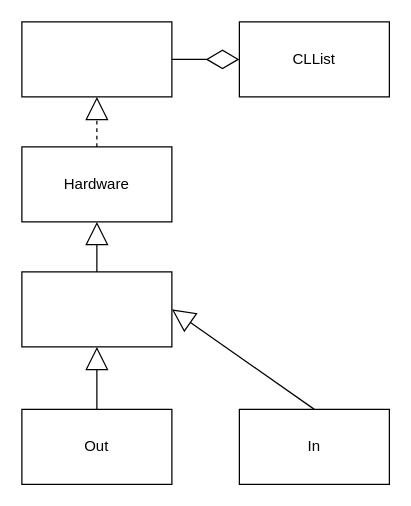
Image size: 411x506. Some labels were removed from this diagram. The shapes that lost their labels are listed below. From the top down, each one's box as (x1, y1, x2, y2) in pixels, then its label:
(21, 21, 172, 97): IHardware
(21, 271, 172, 347): IODevice
